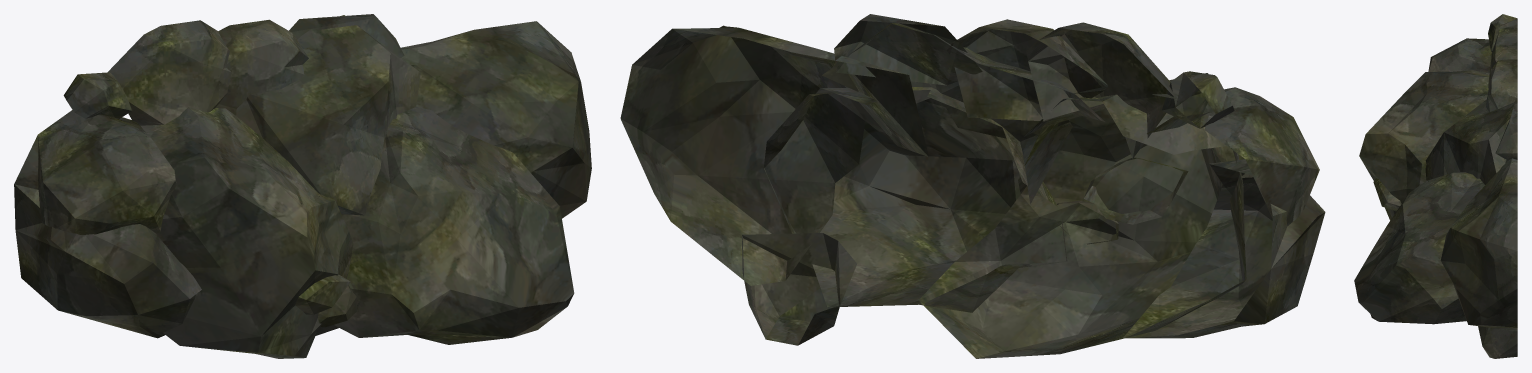
File: jingling_yewai_03_rock01.obj
The picture shows the model from 3 angles, left to right: view 1: azimuth 30°, elevation 25°; view 2: azimuth 150°, elevation 25°; view 3: azimuth 270°, elevation 25°; orthographic projection. The views are drawn at different scales.
Parts seen in each view (by area): view 1: jingling_yewai_03_rock01; view 2: jingling_yewai_03_rock01; view 3: jingling_yewai_03_rock01.
Part boxes in pixels (left/top/right/bottom): jingling_yewai_03_rock01: left=14, top=14, right=591, bottom=358; jingling_yewai_03_rock01: left=620, top=14, right=1325, bottom=358; jingling_yewai_03_rock01: left=1354, top=14, right=1517, bottom=358.
Bounding box in the file's own units: 496 × 281 × 180.
1 material, 1 textured.
